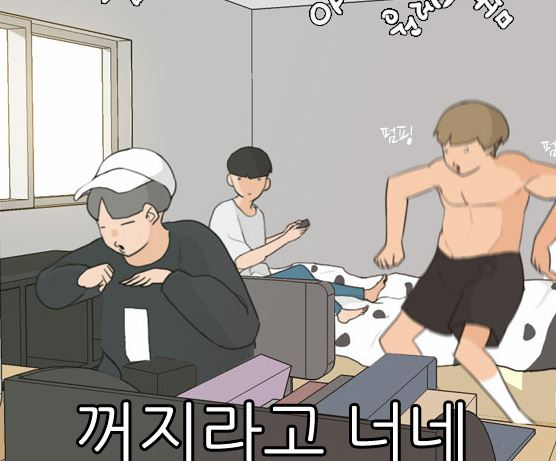hat: (71, 147, 177, 199)
